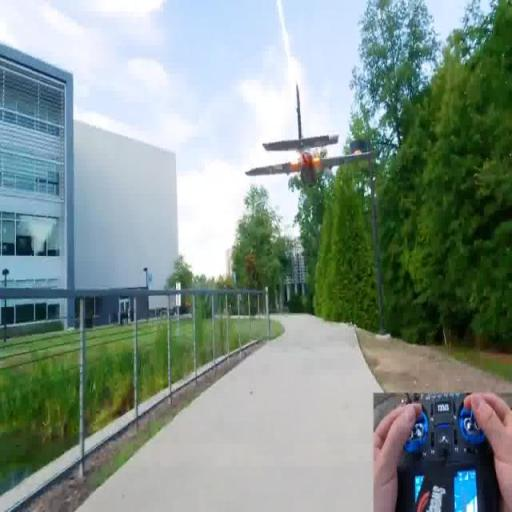uav: (242, 80, 385, 194)
